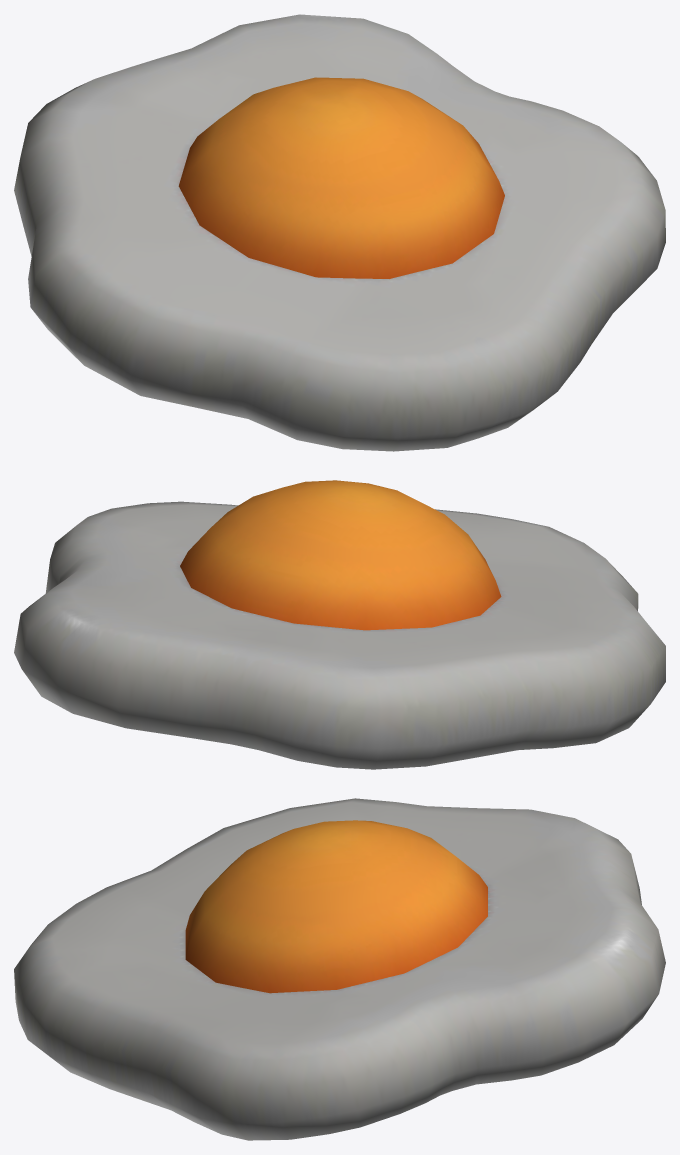
Rendered from 0-sunnysideup.fbx.
The picture shows the model from 3 angles, top to bottom: view 1: azimuth 30°, elevation 25°; view 2: azimuth 150°, elevation 25°; view 3: azimuth 270°, elevation 25°; orthographic projection. The views are drawn at different scales.
Visible parts, largest first — view 1: 0-sunnysideup; view 2: 0-sunnysideup; view 3: 0-sunnysideup.
Boxes of the visible parts, x1=… form: 0-sunnysideup: x1=14, y1=14, x2=665, y2=451; 0-sunnysideup: x1=14, y1=480, x2=665, y2=769; 0-sunnysideup: x1=14, y1=798, x2=665, y2=1140.
Size of the model in its own units: 92.96 by 33.86 by 93.98.
